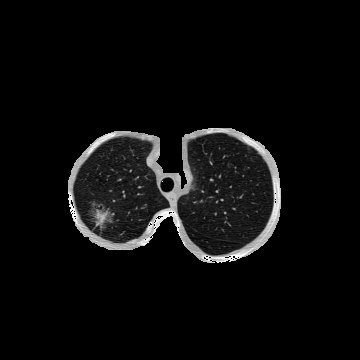PN: (89, 205, 111, 227)
